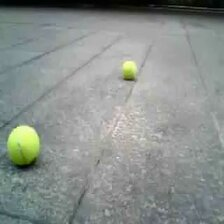tennis: (8, 126, 39, 163), (123, 62, 138, 79)
